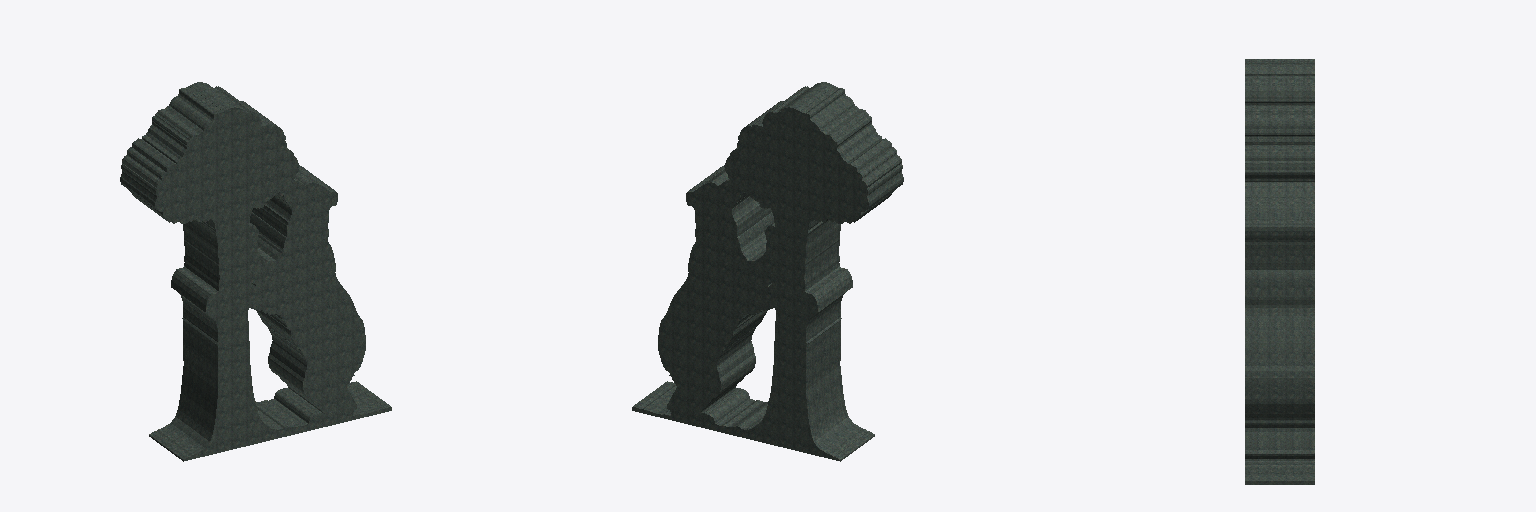
3 renders of one model, left to right at view 1: azimuth 30°, elevation 25°; view 2: azimuth 150°, elevation 25°; view 3: azimuth 270°, elevation 25°, orthographic.
Visible parts, largest first — view 1: Mesh1 Model; view 2: Mesh1 Model; view 3: Mesh1 Model.
Boxes of the visible parts, x1,y1,x2,y2 form: Mesh1 Model: [120, 82, 391, 461]; Mesh1 Model: [632, 82, 903, 461]; Mesh1 Model: [1245, 59, 1314, 484].
Size of the model in its own units: 1.57 by 2.16 by 0.4.
Materials: 1 (1 with a texture image).